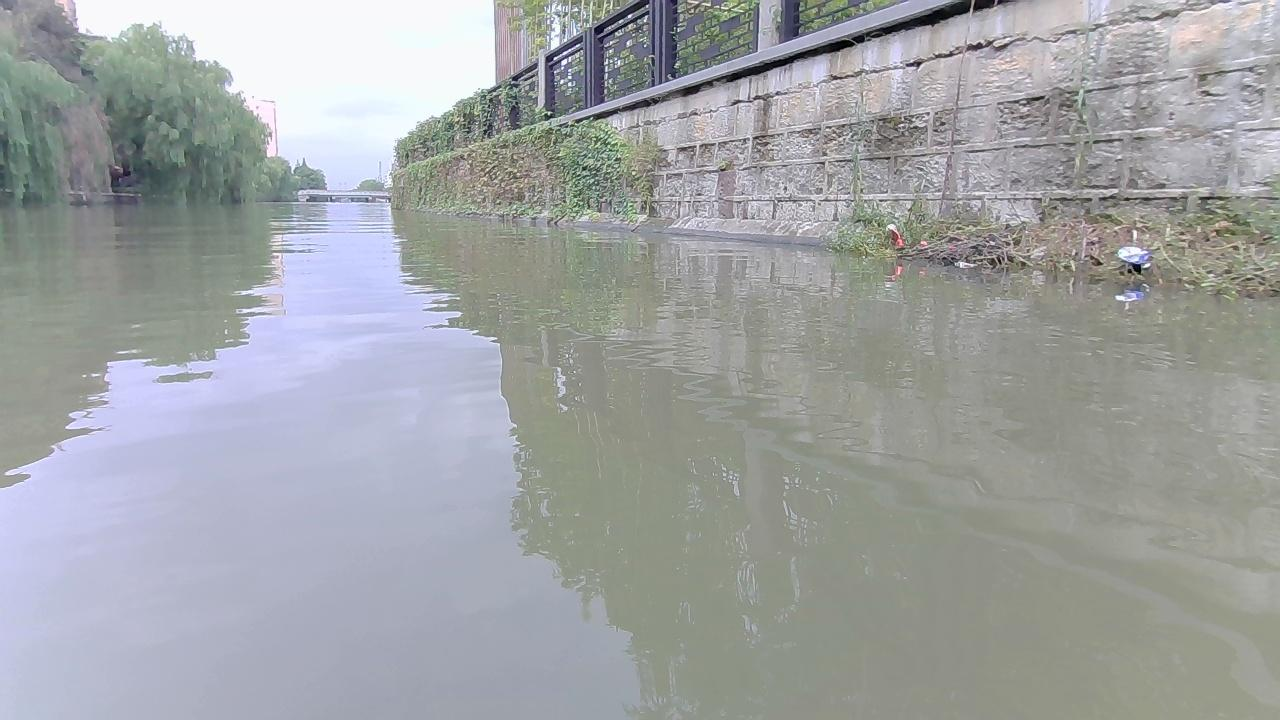bottle: (1116, 244, 1152, 262), (885, 223, 904, 248)
